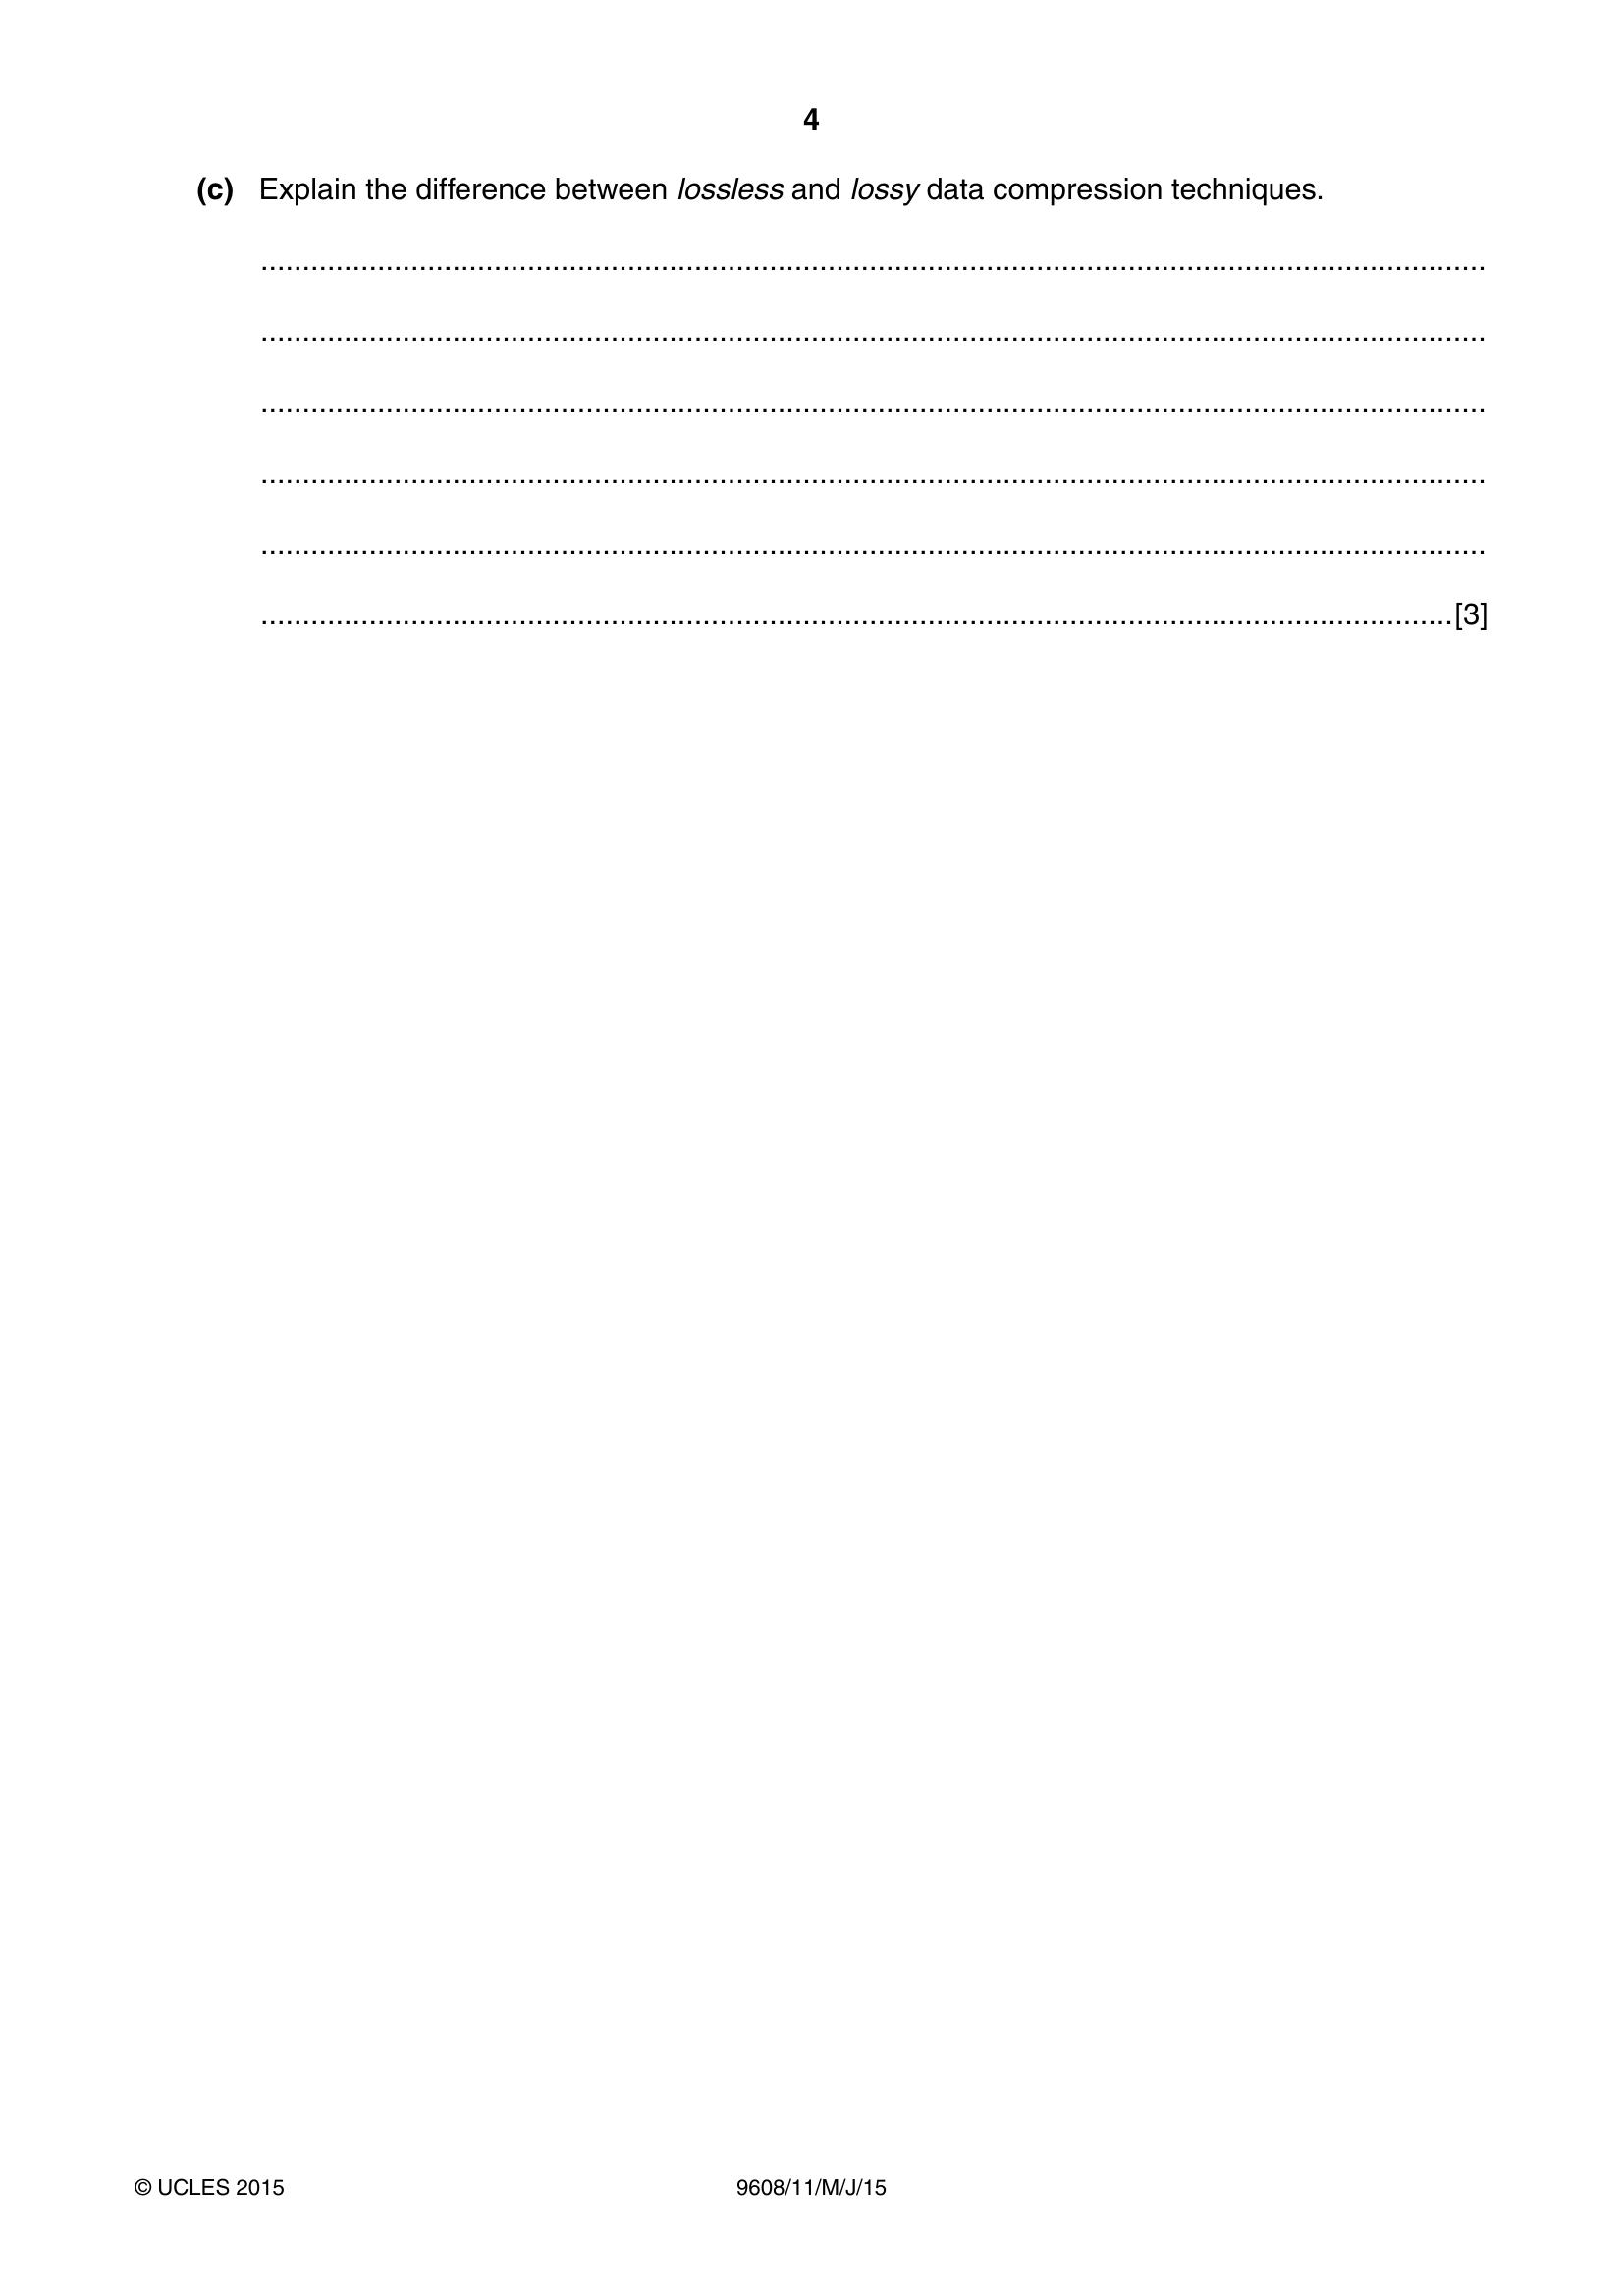continued question: (2, 160, 1624, 710)
